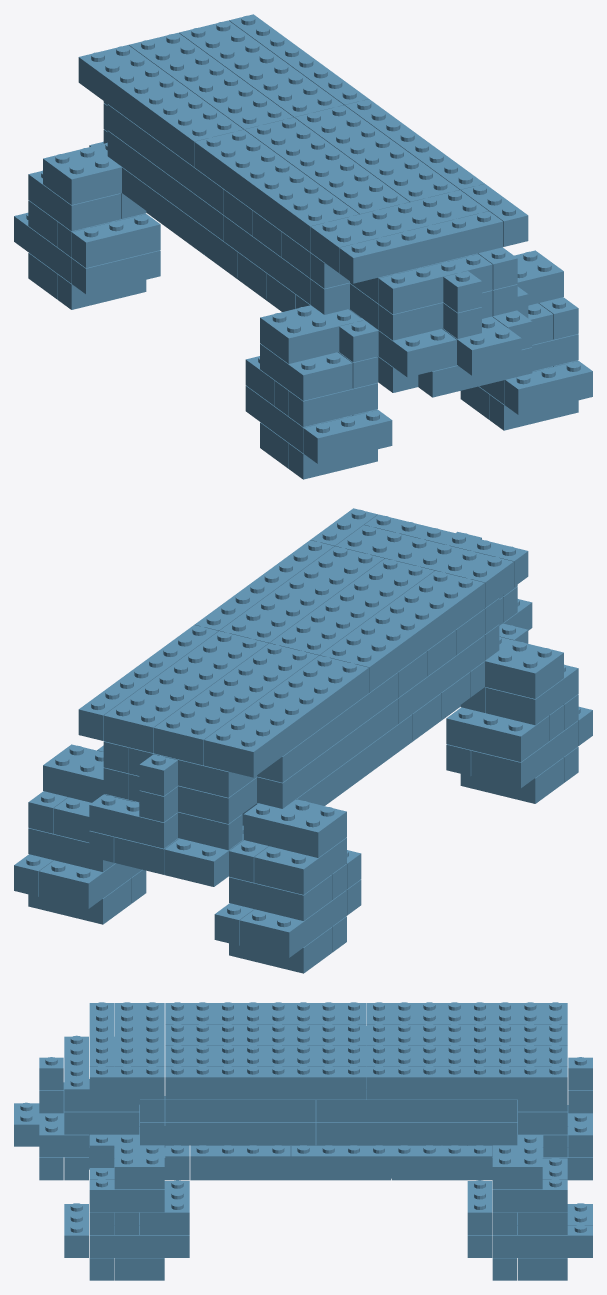
The model's file is 242_train_L2.glb.
The picture shows the model from 3 angles, top to bottom: view 1: azimuth 30°, elevation 25°; view 2: azimuth 150°, elevation 25°; view 3: azimuth 270°, elevation 25°; orthographic projection. The views are drawn at different scales.
Size of the model in its own units: 10.98 by 8.13 by 22.98.
